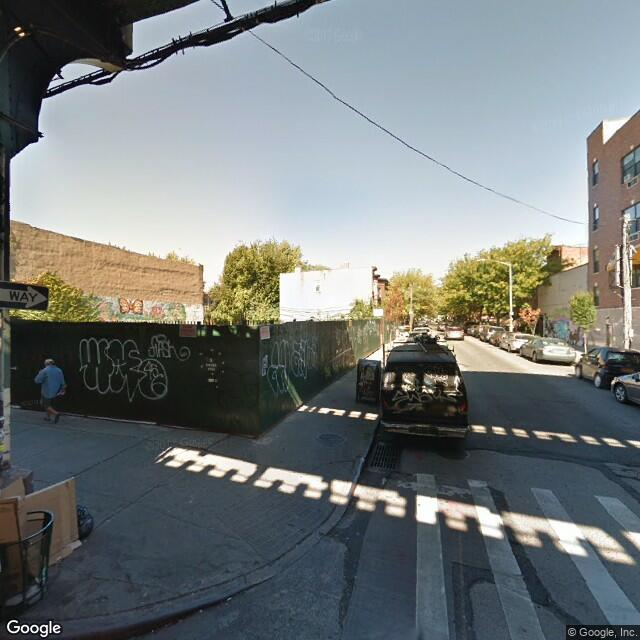litter: (192, 597, 239, 607)
